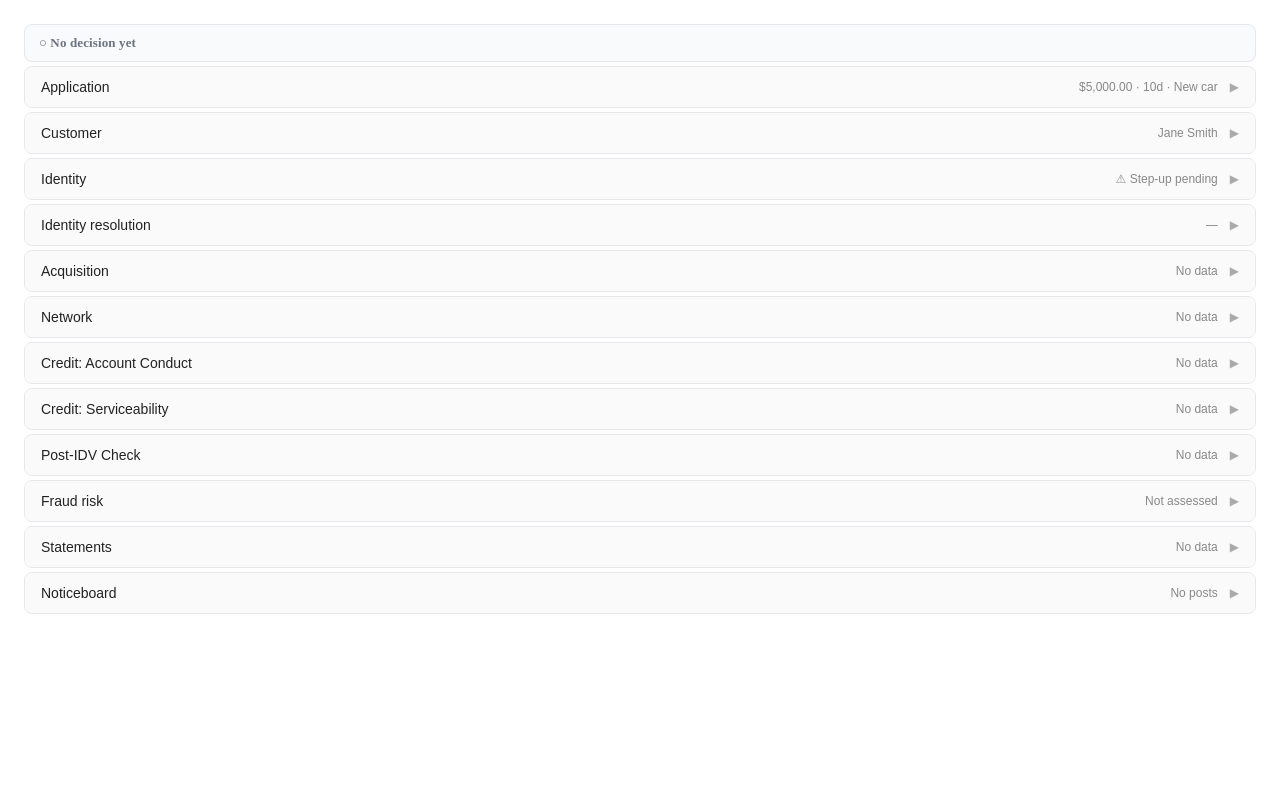
it: AssessmentPanel — identity summary › shows a pending step-up instead of "No data" while attempt 2 is awaited
Expected: the text "⚠ Step-up pending" is shown, [1116,172,1218,186]
Click the button "Identity ⚠ Step-up pending ▶". click: (64, 179)
box: [25,159,1255,199]
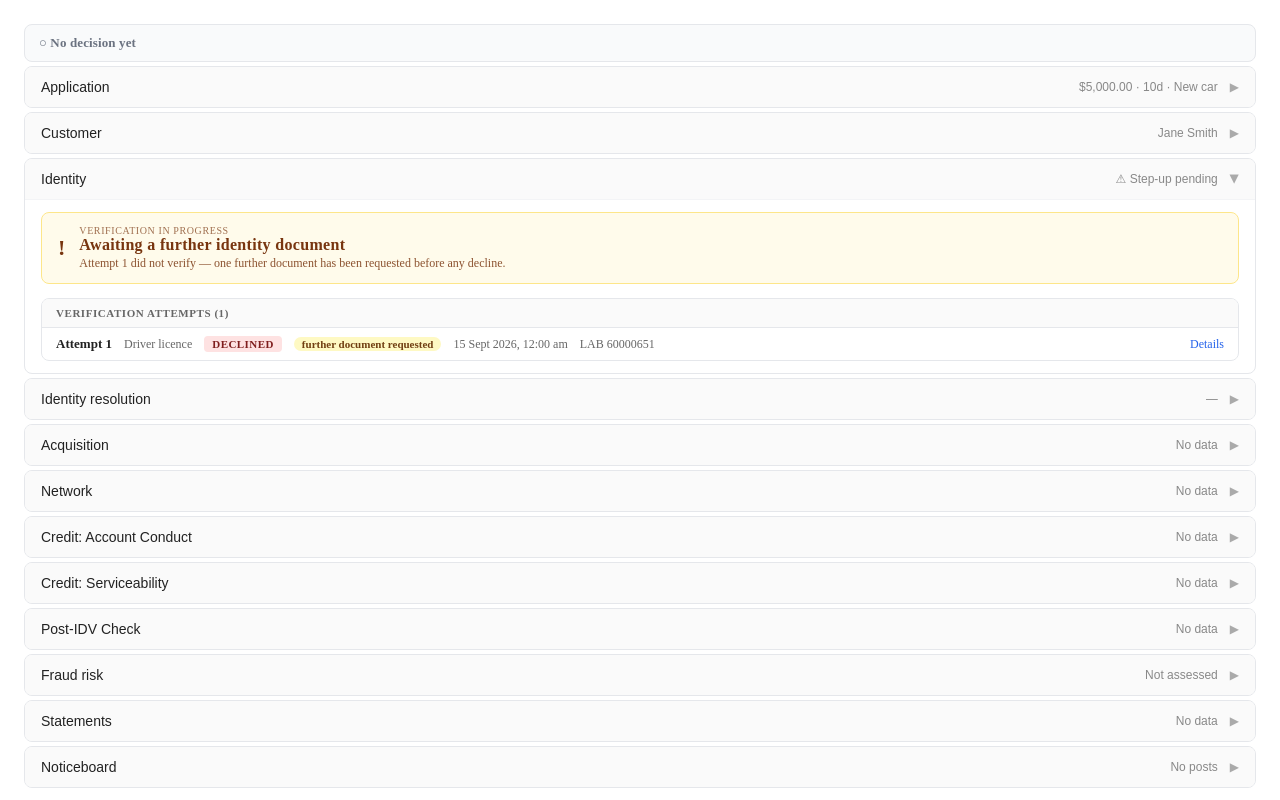
Now the element with test id "identity-step-up-pending" is shown, box [41,212,1239,284]
